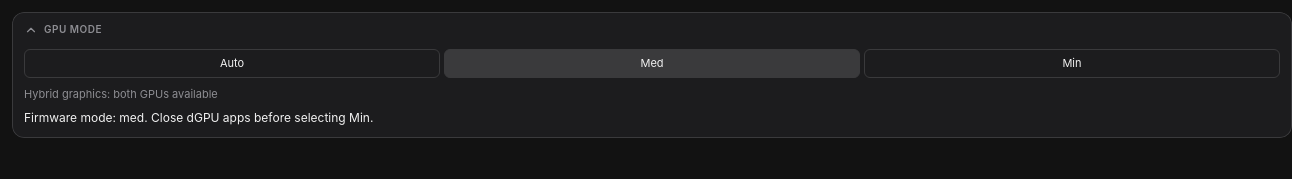
retains actual state and reports a refused write
Click the button "Min" at (1072, 63), box [864,49,1280,78]
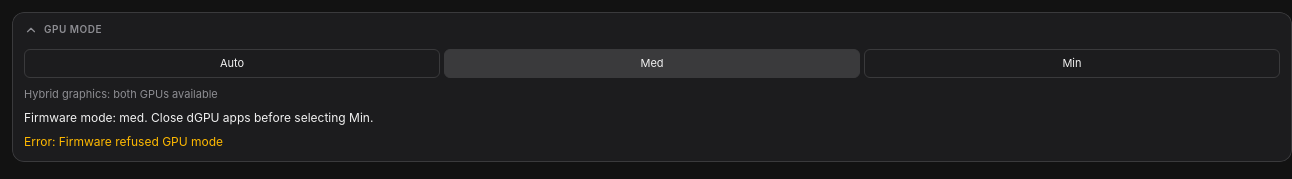
Check: the message "Error: Firmware refused GPU mode" is shown, box [24,134,223,149]
